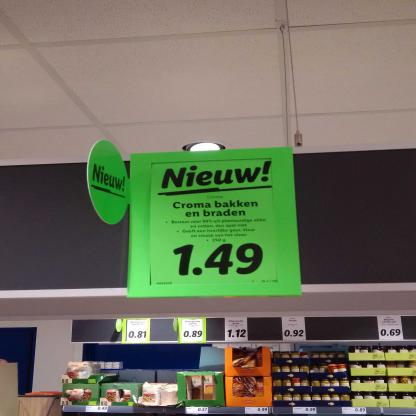prtg: (152, 159, 280, 286), (378, 317, 404, 341), (226, 318, 249, 342), (283, 318, 307, 341), (183, 320, 203, 342), (128, 321, 148, 342)
